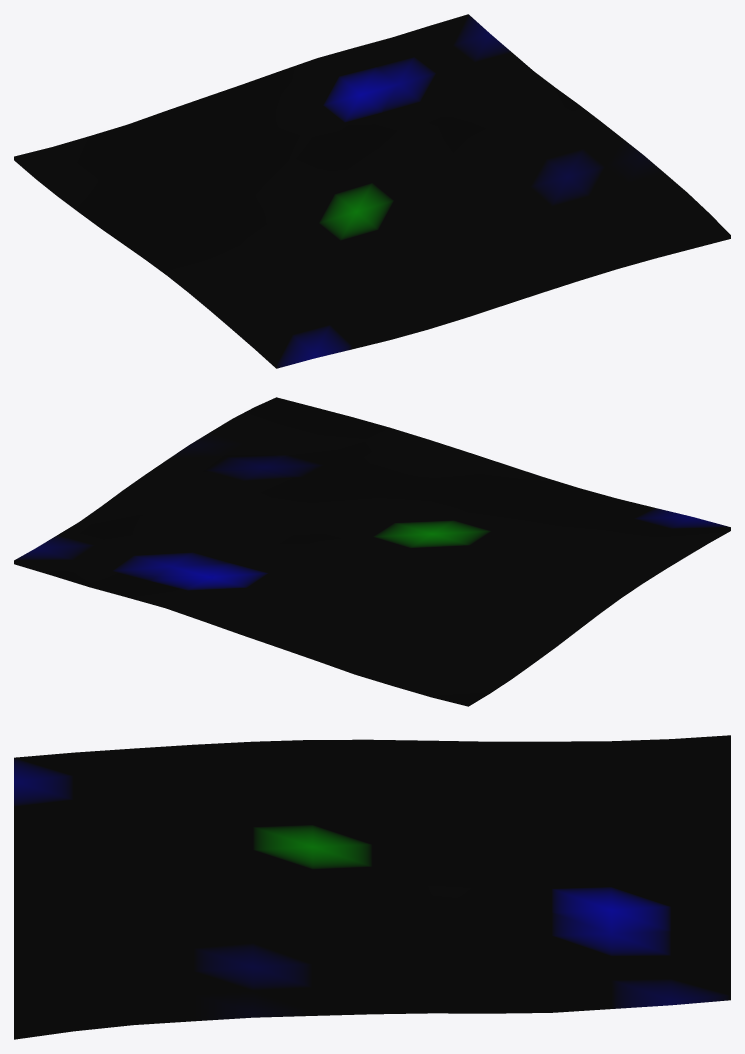
File: coast_2_1.glb
3 renders of one model, top to bottom at view 1: azimuth 30°, elevation 25°; view 2: azimuth 150°, elevation 25°; view 3: azimuth 270°, elevation 25°, orthographic. The views are drawn at different scales.
Visible parts, largest first — view 1: terrain; view 2: terrain; view 3: terrain.
Part boxes in pixels (bbox=[...]): terrain: bbox=[14, 14, 730, 368]; terrain: bbox=[14, 397, 730, 706]; terrain: bbox=[14, 735, 730, 1039].
Bounding box in the file's own units: 192 × 20.85 × 192.
